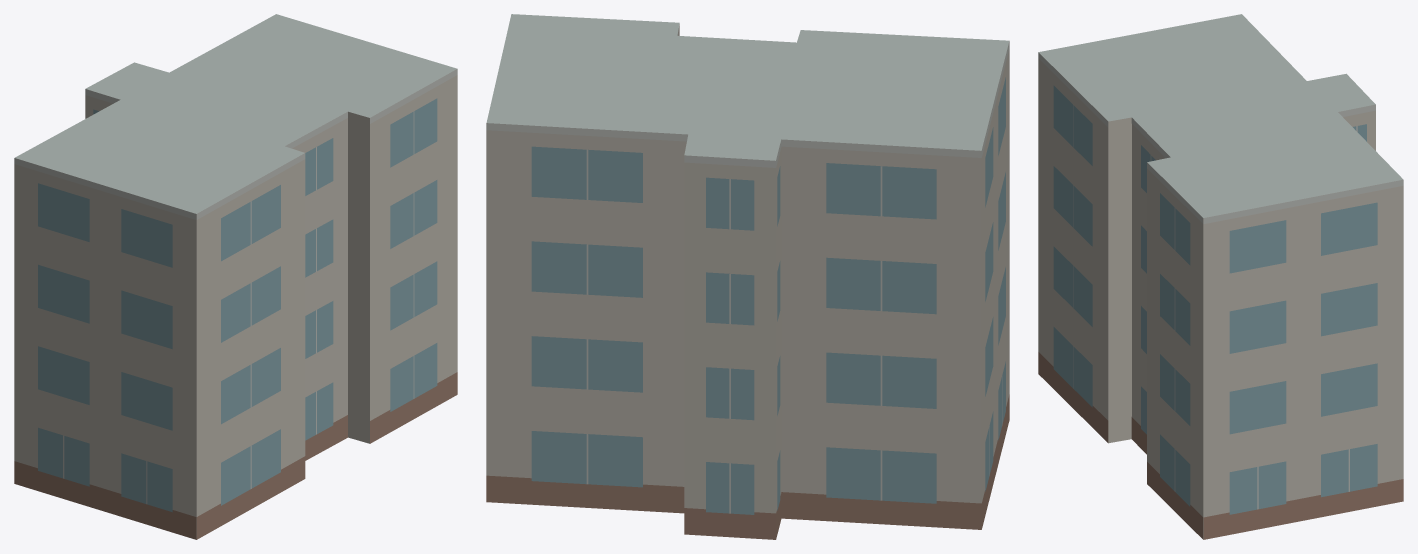
The model's file is survey-upis-33031560.glb.
3 renders of one model, left to right at view 1: azimuth 30°, elevation 25°; view 2: azimuth 150°, elevation 25°; view 3: azimuth 270°, elevation 25°, orthographic. The views are drawn at different scales.
Visible parts, largest first — view 1: survey-upis-33031560.tmp; view 2: survey-upis-33031560.tmp; view 3: survey-upis-33031560.tmp.
Part boxes in pixels (x1,y1,x2,y2): survey-upis-33031560.tmp: (14, 14, 457, 539); survey-upis-33031560.tmp: (486, 14, 1009, 539); survey-upis-33031560.tmp: (1038, 14, 1403, 539).
Bounding box in the file's own units: 17.56 × 12.9 × 13.28.
